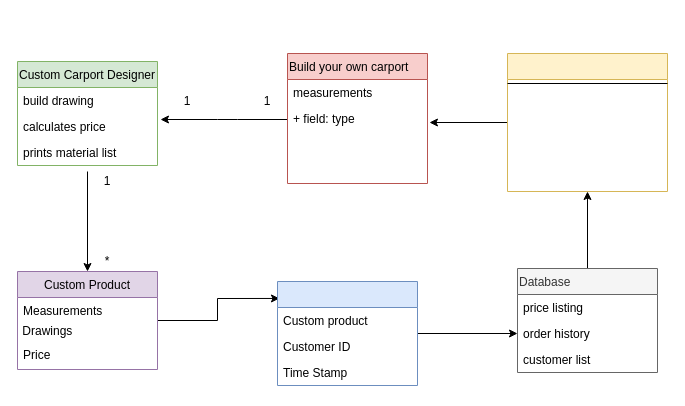
The diagram is 685 pixels wide and 406 high, and some of its shapes have lost their labels. The box of each missing label's shape, as (x1, y1, x2, y2) in pixels:
Order: (276, 280, 418, 386)
Website: (506, 52, 668, 192)
